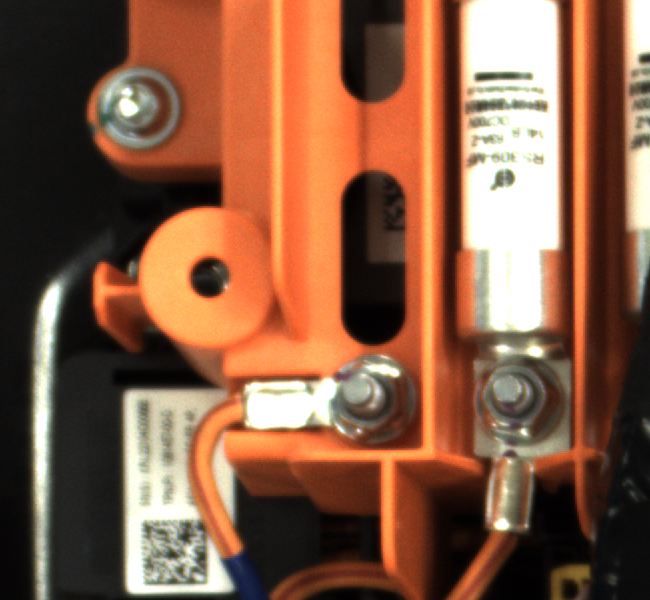screw_m: (74, 61, 205, 168)
screw_s: (319, 354, 412, 440), (481, 355, 563, 441)
